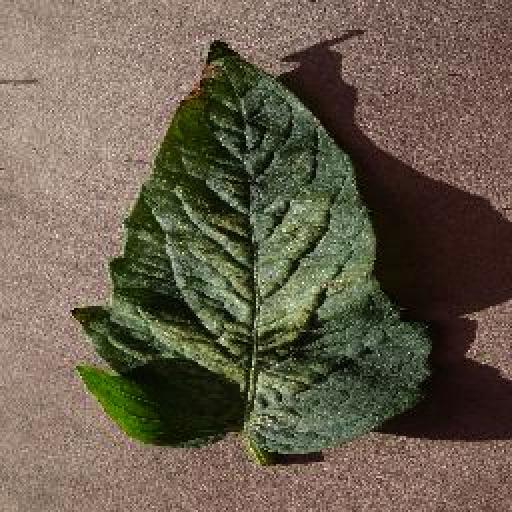disease_tomato: (70, 38, 435, 458)
